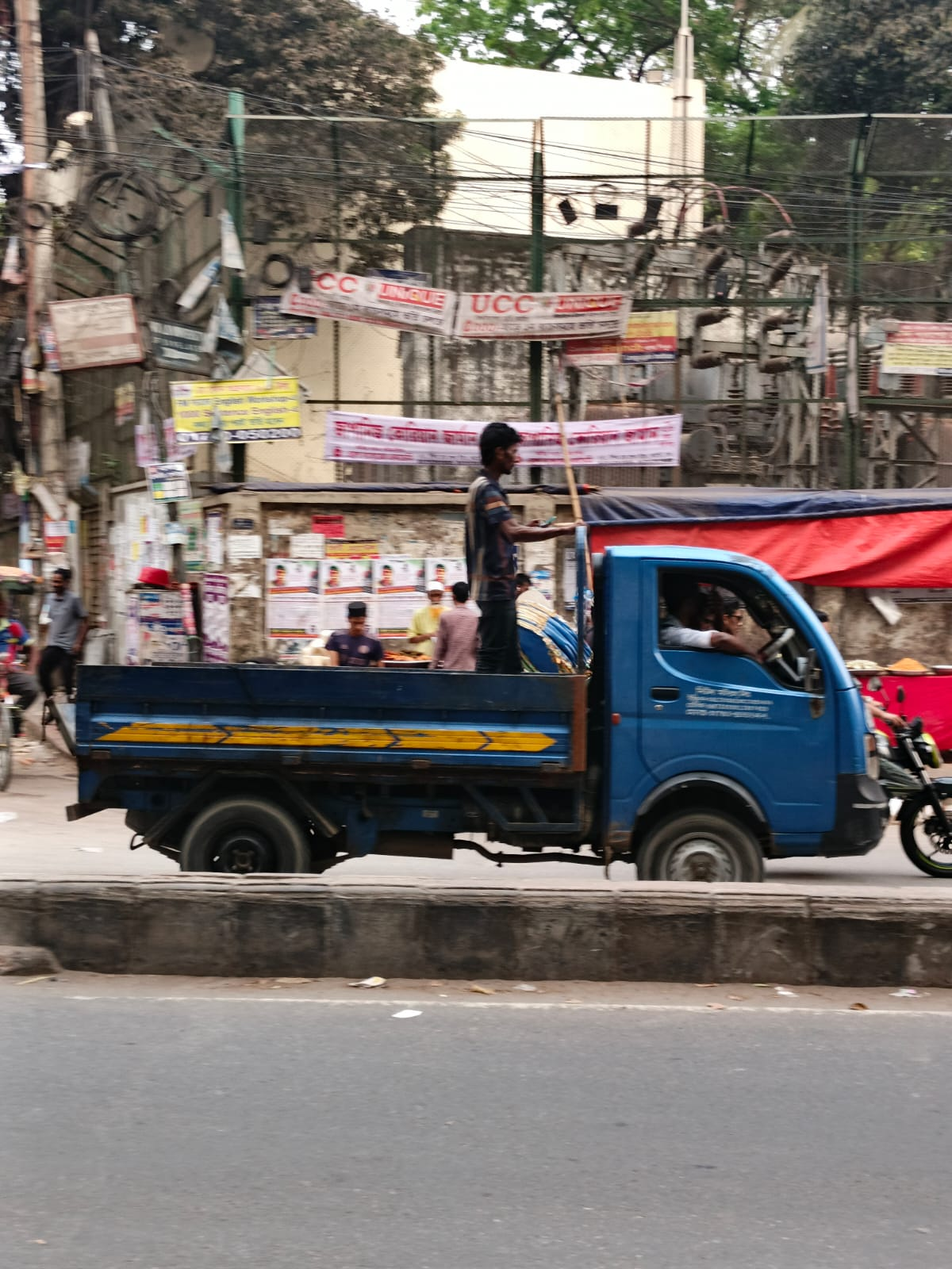Pickup: (74, 437, 931, 986)
